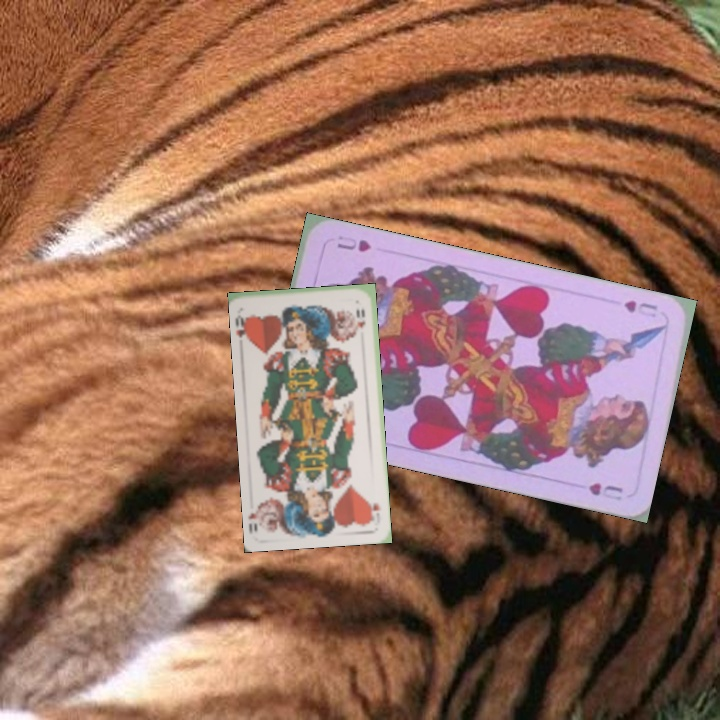HO: (232, 311, 253, 345), (366, 499, 383, 526)
HU: (619, 296, 660, 321)
